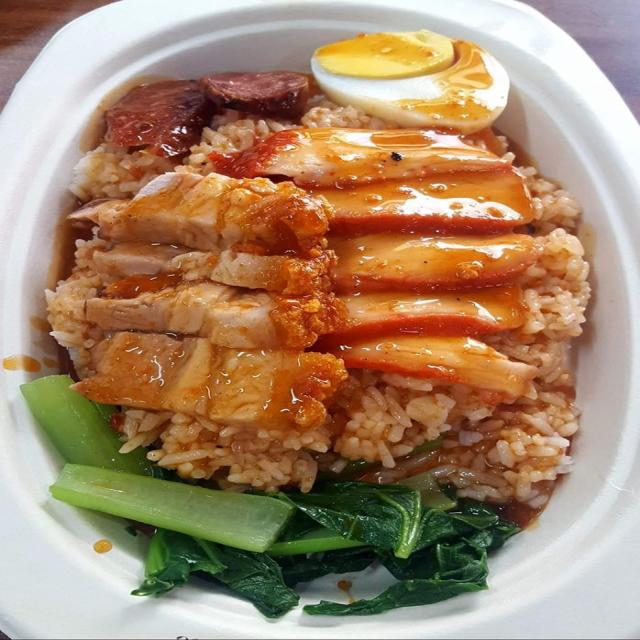Carbohydrate: (62, 70, 596, 508)
Kaow-Crispymoo: (4, 0, 640, 640)
Protein: (98, 24, 532, 430)
Vegetable: (19, 374, 506, 619)
